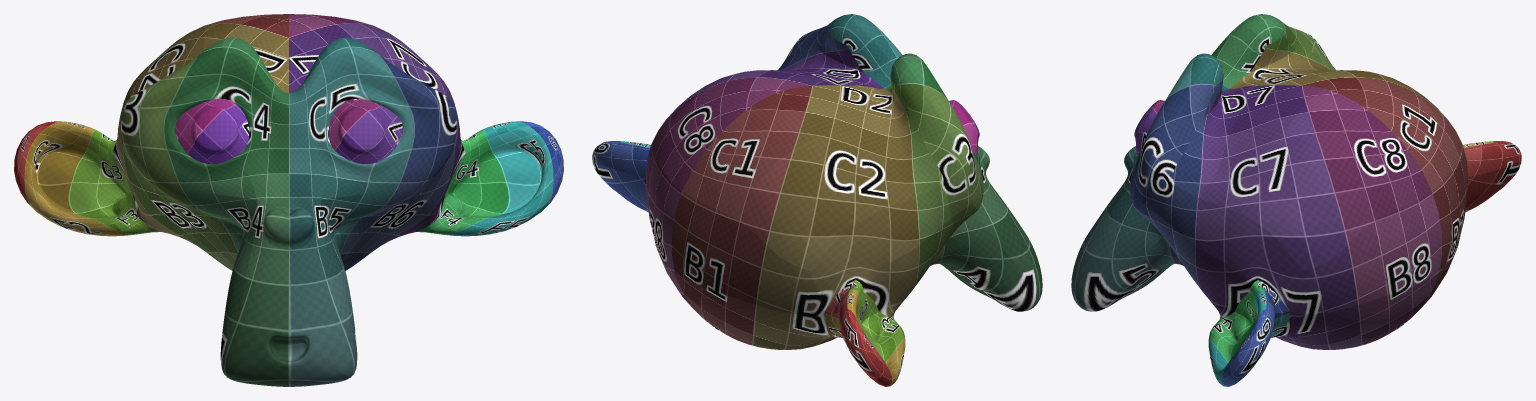
The model's file is Suzanne.glb.
The picture shows the model from 3 angles, left to right: view 1: azimuth 30°, elevation 25°; view 2: azimuth 150°, elevation 25°; view 3: azimuth 270°, elevation 25°; orthographic projection.
Parts seen in each view (by area): view 1: Suzanne; view 2: Suzanne; view 3: Suzanne.
Part boxes in pixels (left/top/right/bottom): Suzanne: left=14, top=14, right=563, bottom=386; Suzanne: left=592, top=14, right=1042, bottom=386; Suzanne: left=1071, top=14, right=1521, bottom=386.
Bounding box in the file's own units: 2.33 × 1.53 × 2.18.
1 material, 1 textured.
